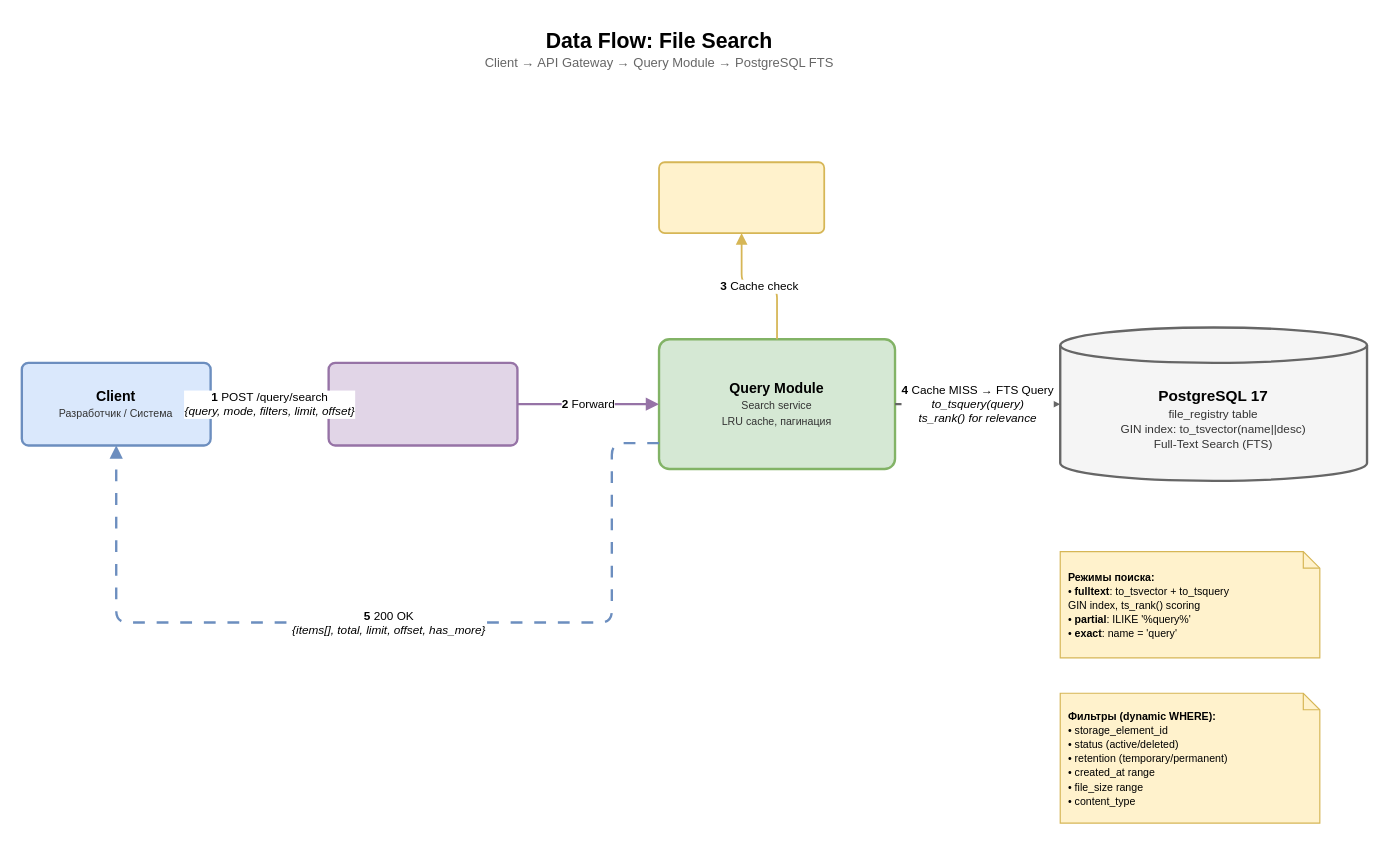
Image size: 1388x844. Some labels were removed from this diagram. Each missing label, with the centre of its shape:
API Gateway Envoy, TLS, JWT: the point at 422,403
LRU Cache In-memory cache Key: query hash: the point at 741,197
